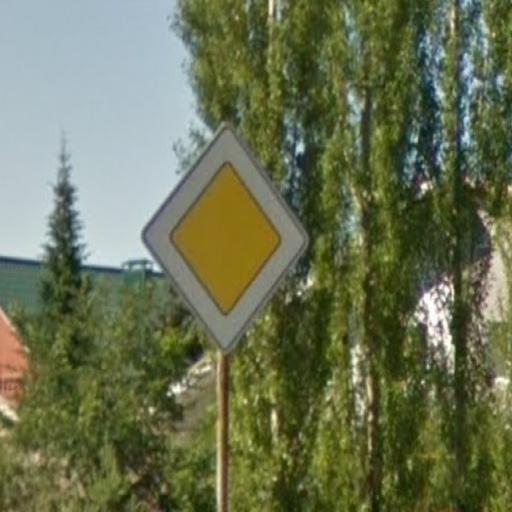traffic_sign: (142, 122, 309, 353)
